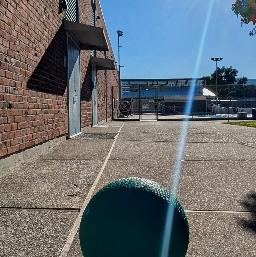algae: (75, 173, 192, 257)
